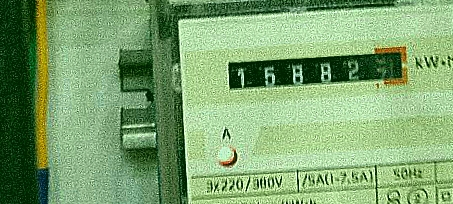1: (233, 64, 249, 87)
2: (344, 57, 362, 82)
5: (261, 62, 277, 88)
7: (374, 62, 388, 80)
8: (317, 59, 333, 84), (289, 62, 304, 86)
screen: (217, 37, 418, 107)
